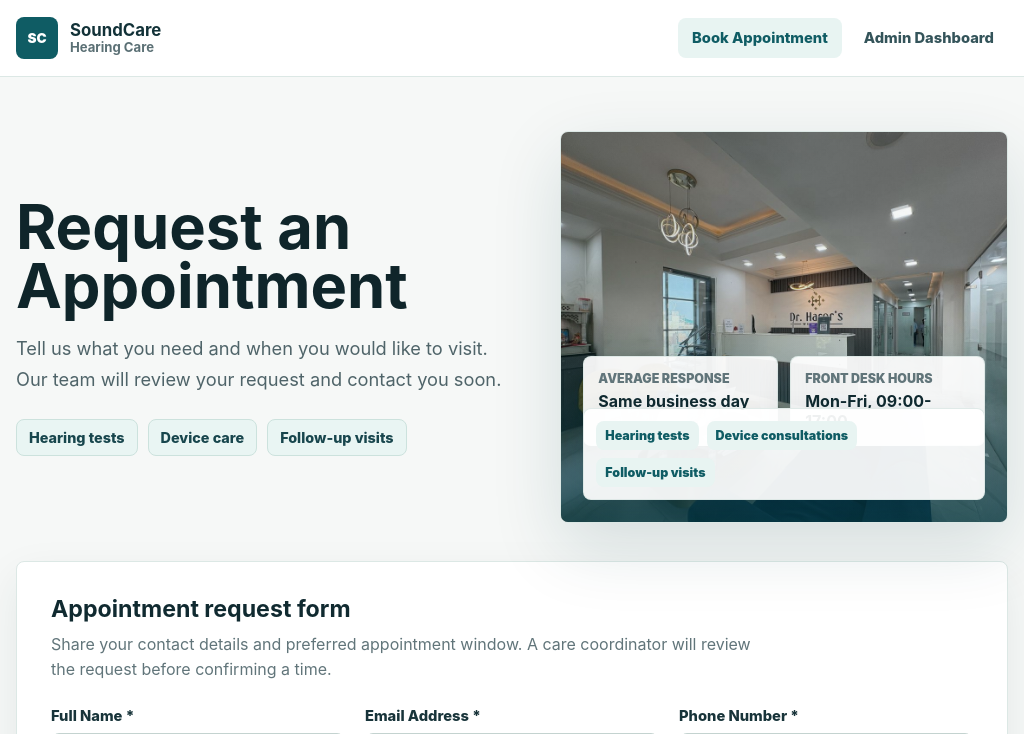
Test: AppShell › admin sidebar uses only working navigation and logo returns home
Click the button "Admin Dashboard".
click(929, 38)  # box [850,18,1008,58]
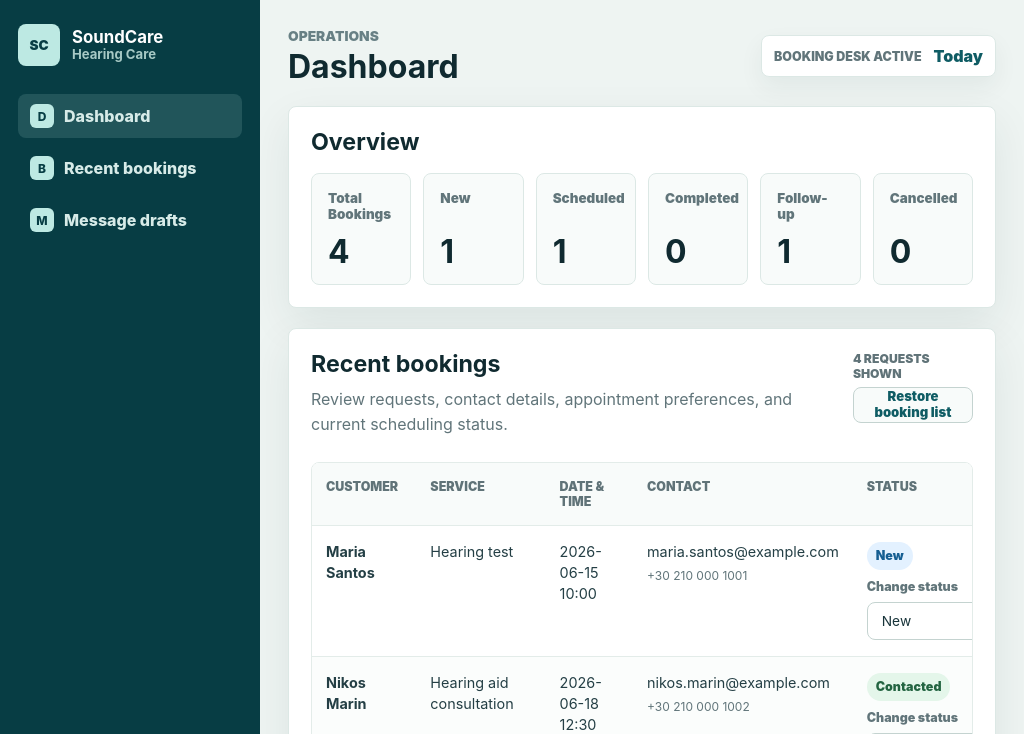
Now the button "Book Appointment" is gone
Now the link "B Recent bookings" is shown, box [30,156,196,180]
Now the link "M Message drafts" is shown, box [30,208,187,232]
Click the link with aria-label "soundcare hearing care home".
click(91, 45)  # box [18,24,163,66]
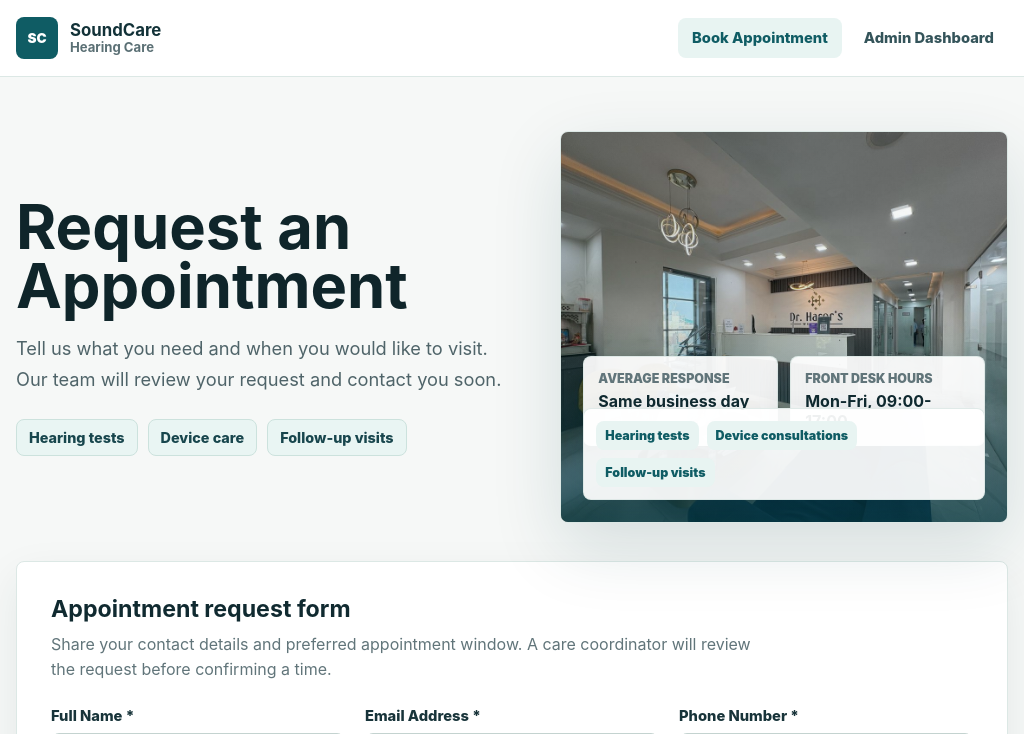
Now the heading "Request an Appointment" is shown, box [16,188,408,322]
